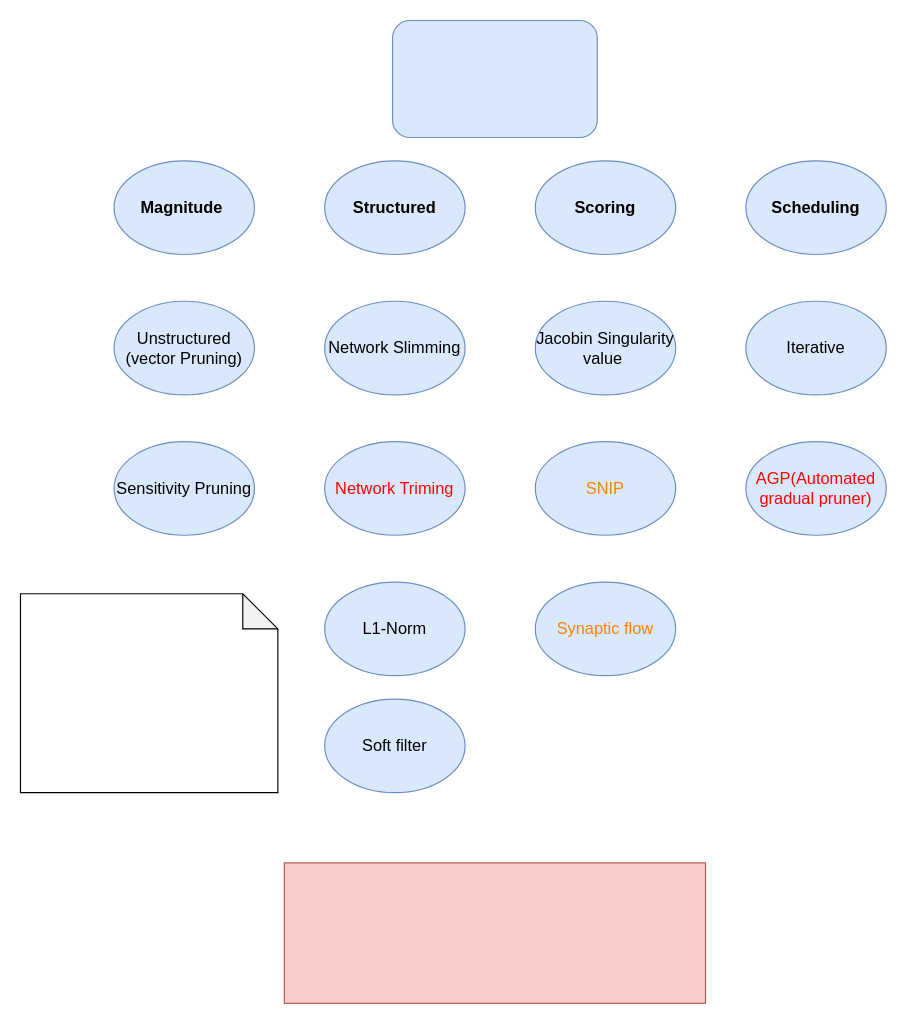
The diagram is 907 pixels wide and 1024 high, and some of its shapes have lost their labels. Each missing label, with the box of its shape:
Features 1. Global/ local 2. Rewinding: (283, 862, 706, 1003)
Note: Black : Done Orange : almost done Red : not started yet: (19, 593, 278, 793)
Pruning: (391, 19, 597, 137)
